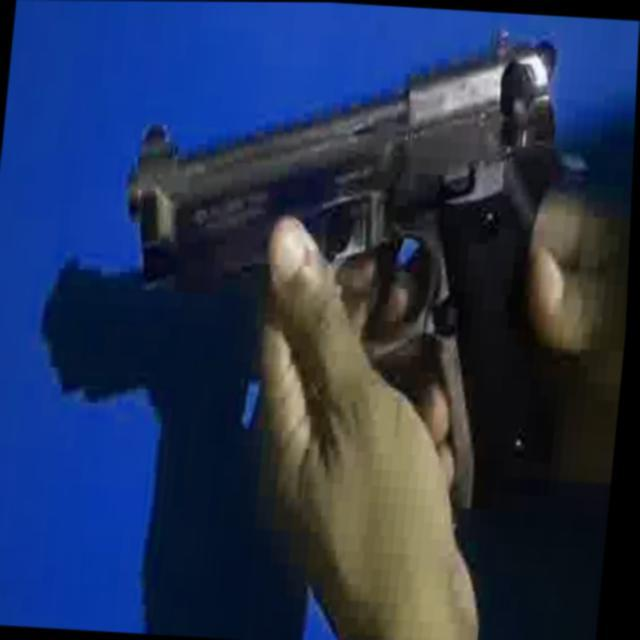weapon: (99, 4, 594, 530)
